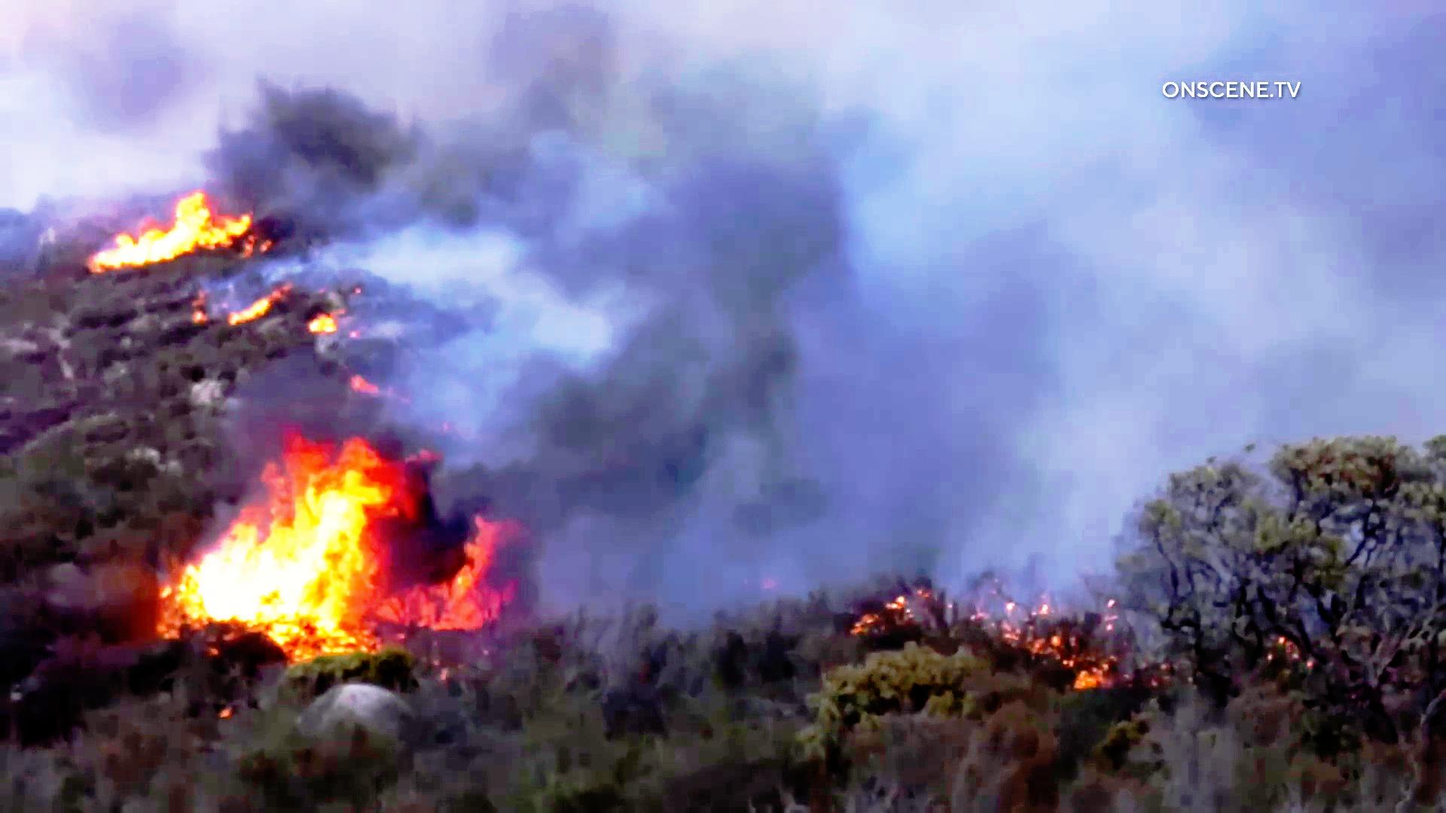fire: (211, 394, 507, 648), (848, 550, 1171, 714)
smoke: (360, 123, 724, 375)
